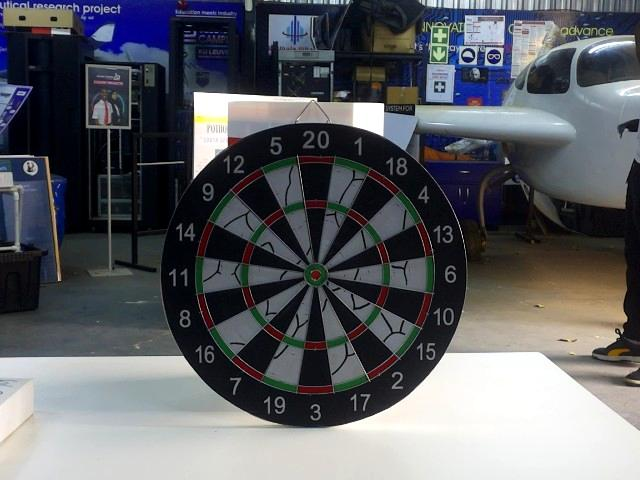single_5: (290, 216, 312, 252)
